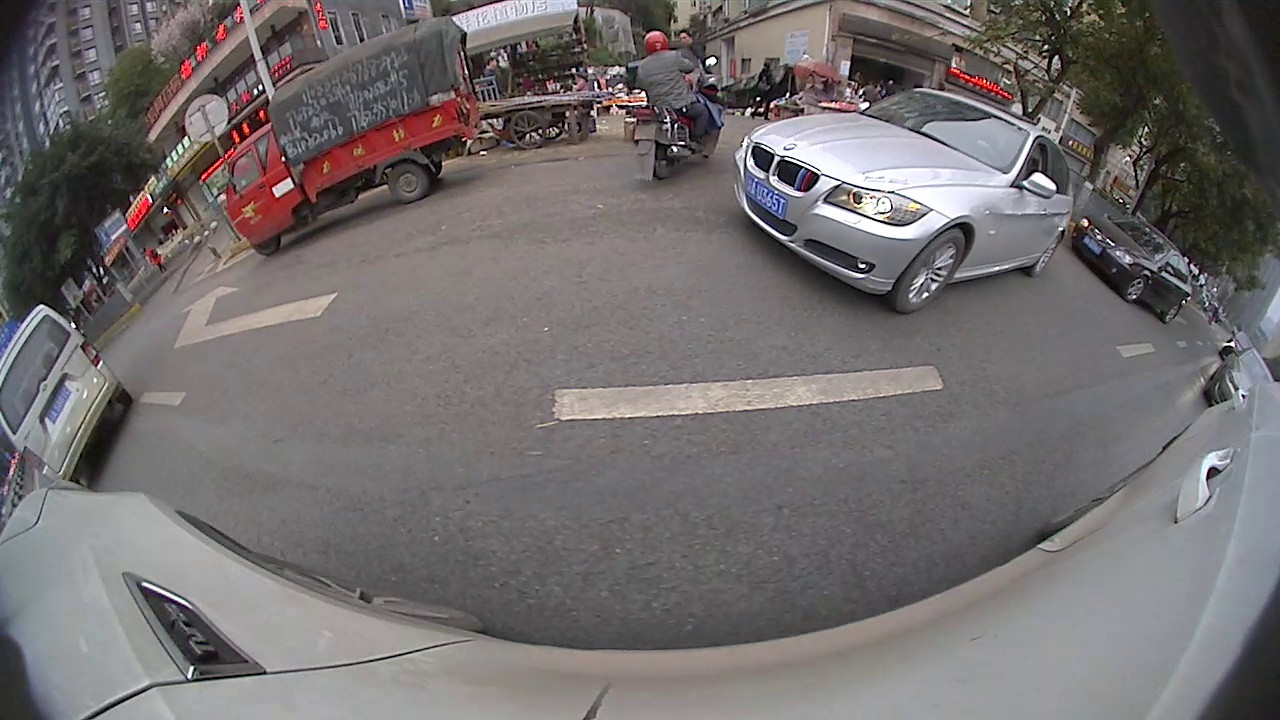car: (731, 81, 1076, 317), (4, 303, 134, 489), (1066, 206, 1198, 328), (1205, 340, 1277, 416)
front: (900, 232, 971, 313), (1123, 271, 1148, 309)
rear: (1035, 225, 1068, 281), (387, 168, 435, 202), (1162, 298, 1183, 324)
rider: (219, 14, 487, 261), (621, 29, 722, 190)
